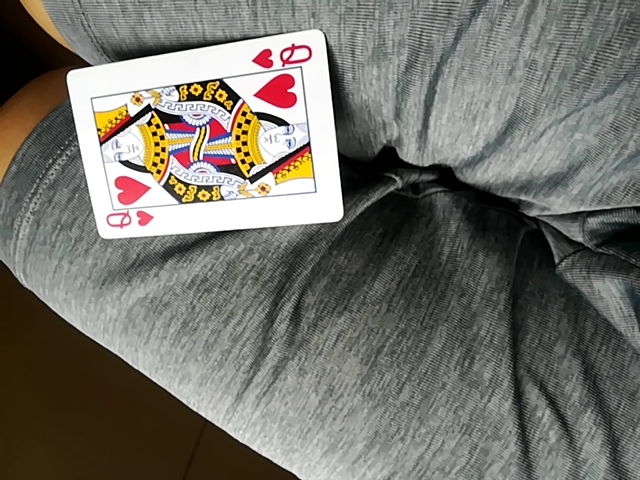hx q: (66, 28, 347, 241)
